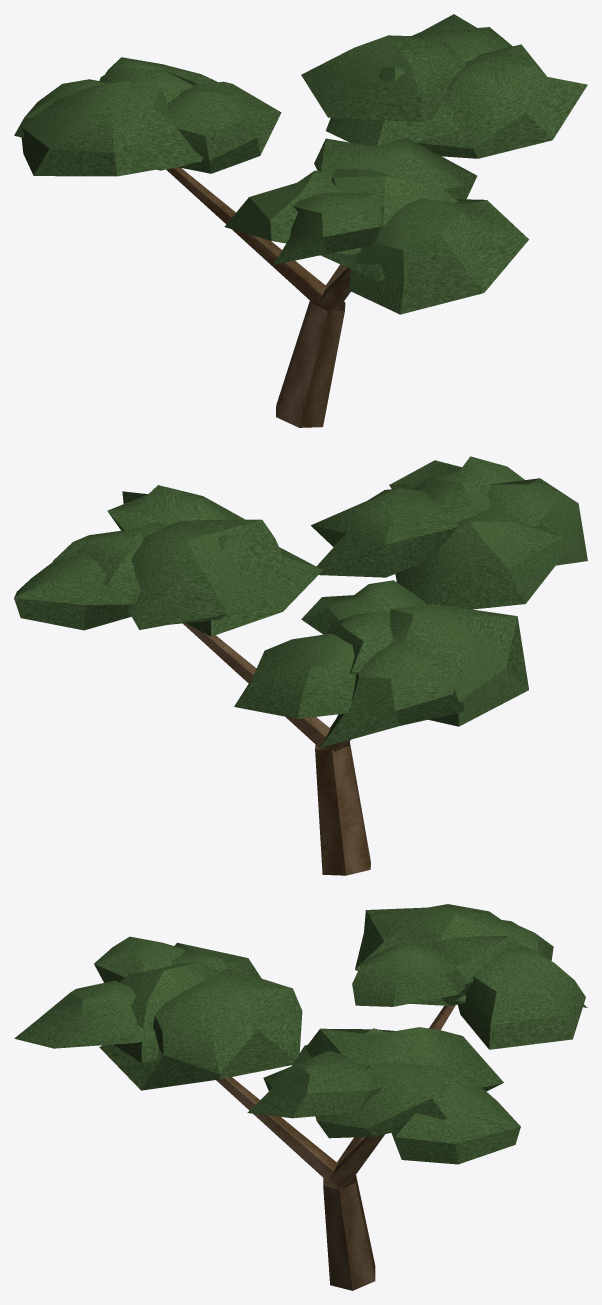
File: ambient_tree_21.glb
3 renders of one model, top to bottom at view 1: azimuth 30°, elevation 25°; view 2: azimuth 150°, elevation 25°; view 3: azimuth 270°, elevation 25°, orthographic. The views are drawn at different scales.
Parts seen in each view (by area): view 1: ambient_tree_21; view 2: ambient_tree_21; view 3: ambient_tree_21.
Boxes of the visible parts, x1,y1,x2,y2 form: ambient_tree_21: [14, 14, 587, 427]; ambient_tree_21: [14, 456, 587, 875]; ambient_tree_21: [14, 904, 587, 1290].
Bounding box in the file's own units: 8.08 × 5.1 × 8.57.
2 materials, 2 textured.
